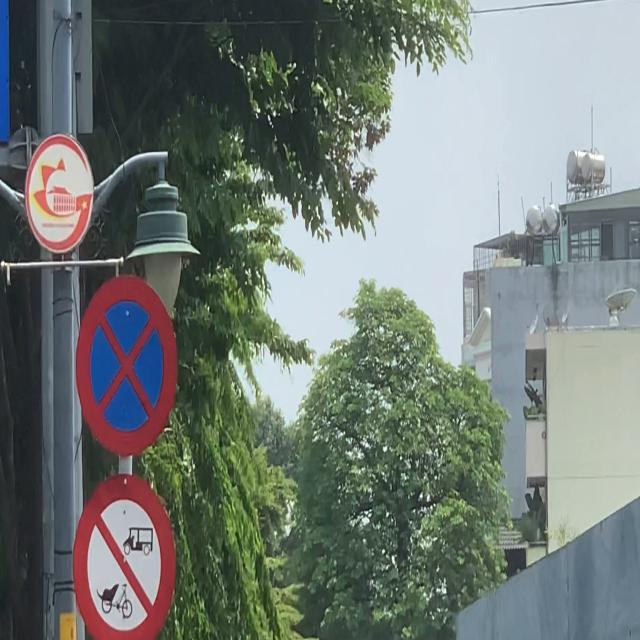Cam con lai: (71, 474, 176, 640)
Cam dung va do: (74, 269, 180, 460)
